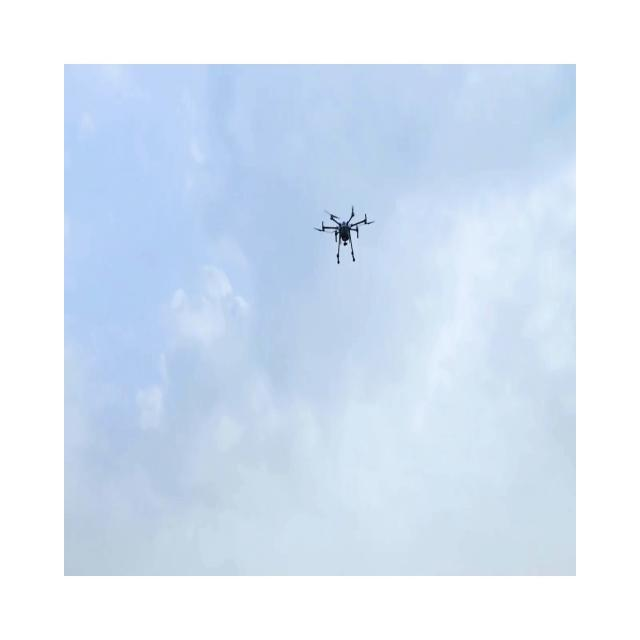drone: (313, 205, 375, 264)
